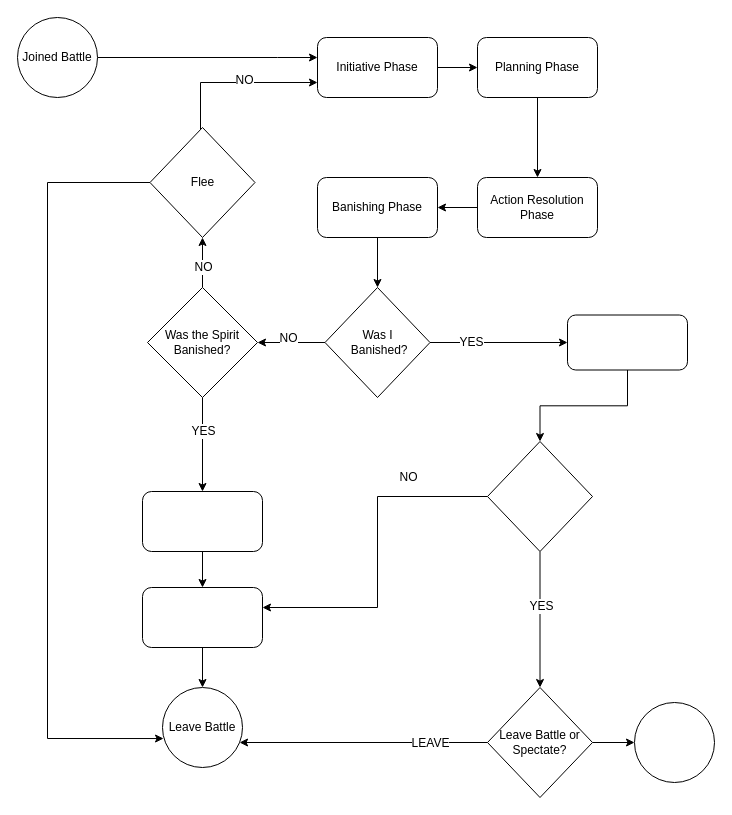
The diagram is 732 pixels wide and 815 high, and some of its shapes have lost their labels. The shapes that lost their labels are listed below. From the top down, each one's centre as x and y in pixels, then its label:
At (x=627, y=342): "Show Death Sequence".
At (x=539, y=496): "Is there any playable witch in the battle?".
At (x=202, y=521): "Show Celebratory Sequence".
At (x=202, y=617): "Show Debrief Sequence".
At (x=674, y=742): "Spectate Battle".
